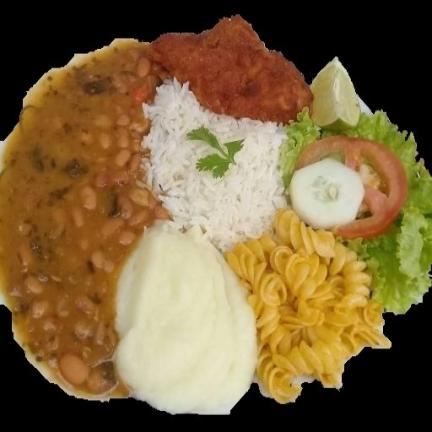beans: (2, 39, 163, 399)
chicken: (149, 16, 312, 127)
cucumber: (290, 161, 362, 226)
pasta: (224, 212, 389, 403)
potato: (114, 226, 255, 415)
rice: (141, 83, 289, 250)
salad: (277, 111, 431, 313)
tomato: (294, 137, 410, 235)
